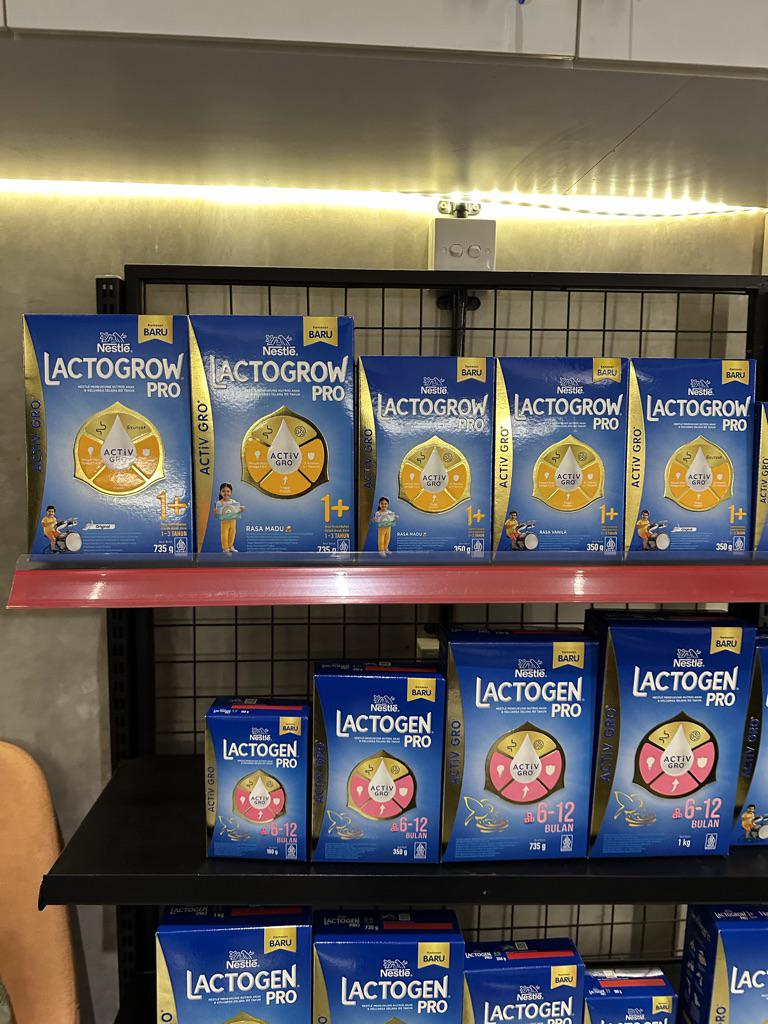LACTOGEN PRO 6-12 mo 12x735g ID: (438, 639, 595, 862), (305, 672, 441, 862)
LACTOGEN PRO 6-12 mo 24x350g ID: (307, 672, 441, 864)
LACTOGEN PRO 6-12 mo 40x180g ID: (204, 711, 308, 870)
